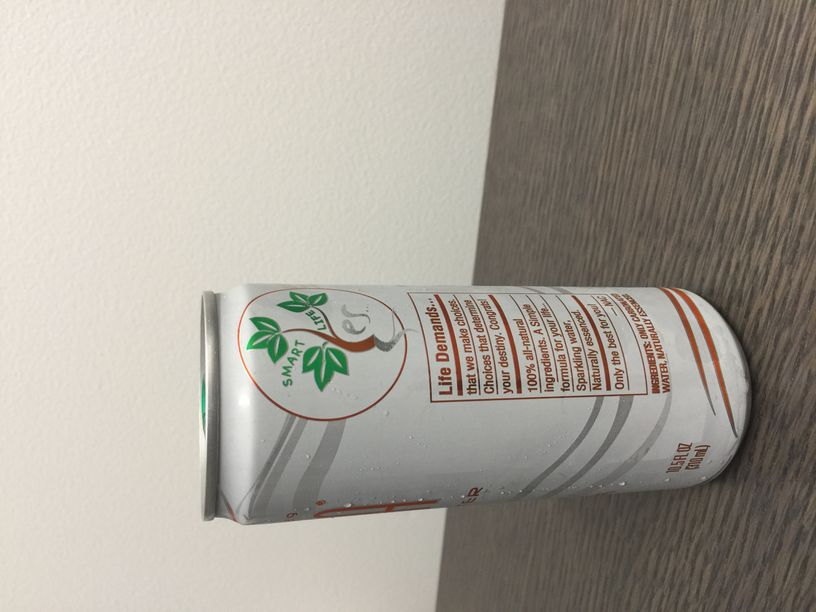competitor_01: (187, 274, 758, 535)
